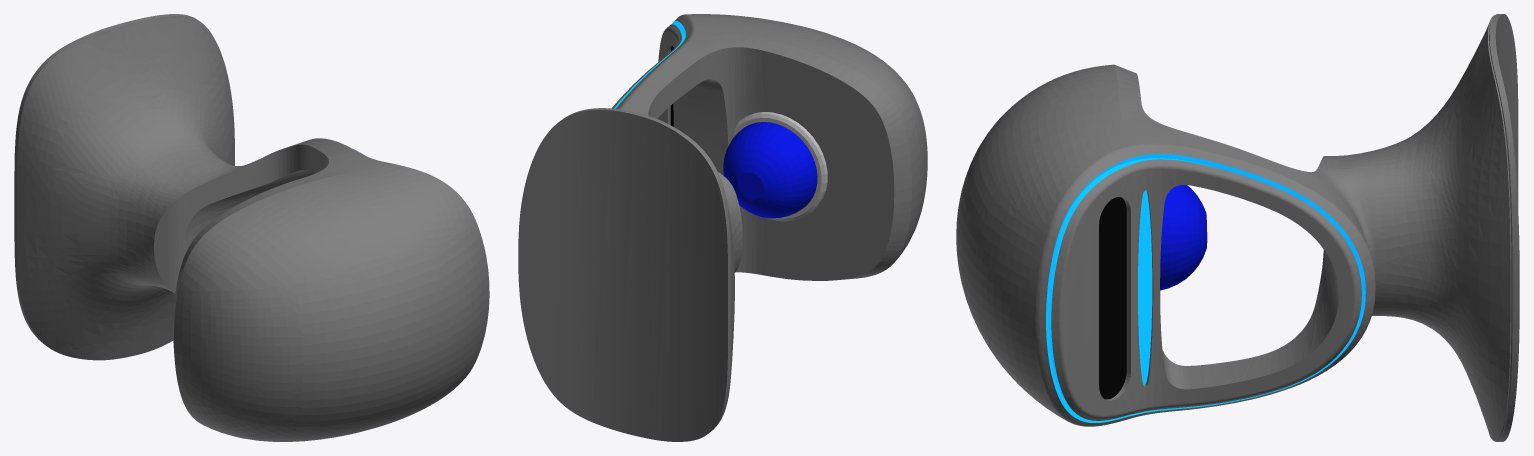
File: head.glb
3 views of the same model, side by side, from view 1: azimuth 30°, elevation 25°; view 2: azimuth 150°, elevation 25°; view 3: azimuth 270°, elevation 25° (orthographic). The views are drawn at different scales.
Visible parts, largest first — view 1: head_link; view 2: head_link; view 3: head_link.
Boxes of the visible parts, x1=… form: head_link: x1=14, y1=14, x2=489, y2=441; head_link: x1=518, y1=14, x2=927, y2=441; head_link: x1=956, y1=14, x2=1519, y2=441.
Size of the model in its own units: 0.1403 by 0.1556 by 0.2058.
